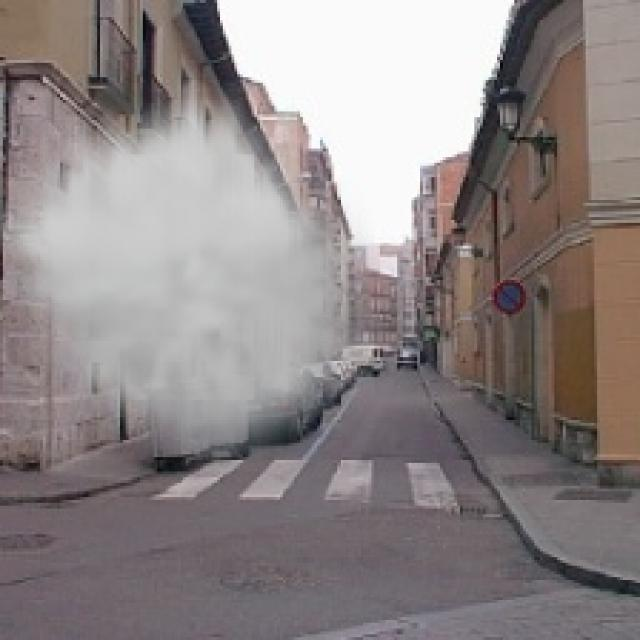smoke: (0, 79, 375, 472)
